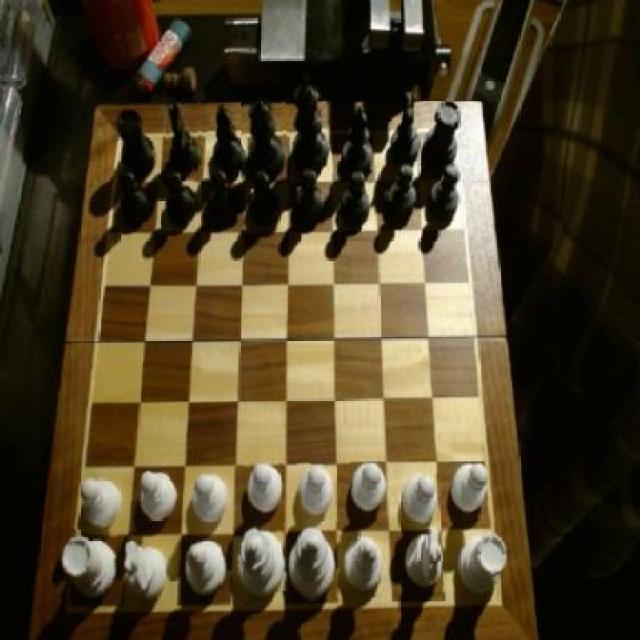bishop: (208, 103, 246, 181), (338, 103, 374, 181)
black-bishop: (286, 74, 333, 178)
black-king: (388, 88, 422, 169), (164, 100, 200, 176)
black-knight: (117, 169, 155, 229), (161, 168, 197, 228), (248, 169, 284, 229), (205, 168, 240, 228), (428, 163, 463, 223), (294, 166, 328, 227), (340, 168, 374, 228), (386, 163, 419, 224)
black-pawn: (240, 92, 286, 181)
black-queen: (421, 98, 464, 172), (115, 106, 158, 176)
black-rook: (184, 538, 228, 602), (345, 536, 387, 600)
white-bishop: (289, 523, 342, 601)
white-king: (123, 537, 170, 607), (406, 528, 448, 592)
white-knight: (138, 469, 181, 527), (81, 476, 124, 532), (244, 459, 284, 516), (296, 463, 336, 520), (349, 460, 388, 518), (452, 463, 492, 519), (402, 474, 440, 531), (191, 471, 228, 527)
white-pawn: (234, 523, 287, 595)
white-queen: (60, 530, 118, 604), (457, 532, 507, 600)
